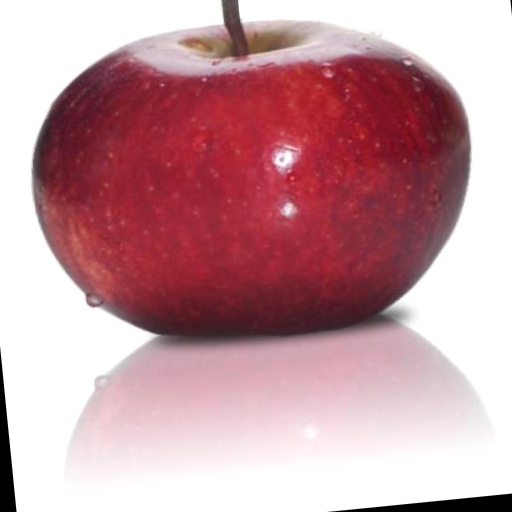fruit: (33, 21, 470, 334)
